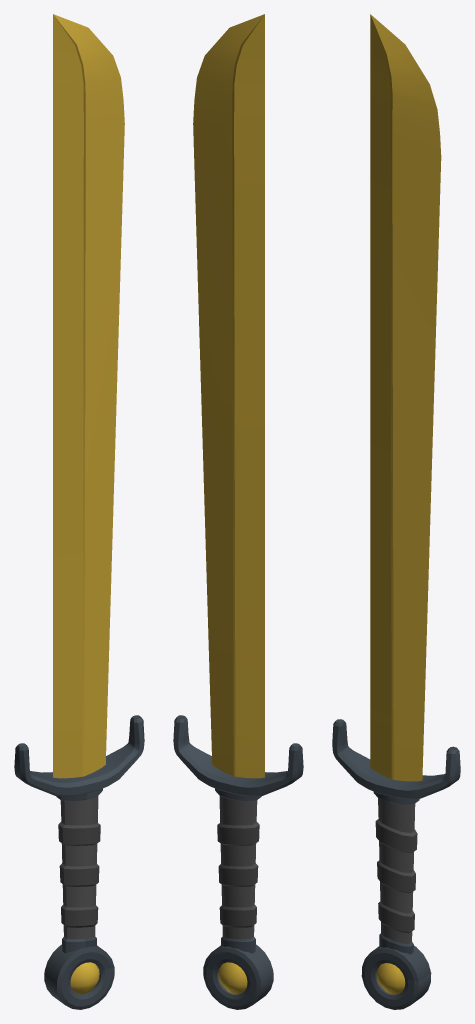
The model's file is SM_Sword09_Falchion_2Gold.fbx.
The picture shows the model from 3 angles, left to right: view 1: azimuth 30°, elevation 25°; view 2: azimuth 150°, elevation 25°; view 3: azimuth 330°, elevation 25°; orthographic projection.
Parts seen in each view (by area): view 1: Cube.041, Cylinder.035, Cube.346, Cylinder.473, Sphere.109; view 2: Cube.041, Cylinder.035, Cube.346, Cylinder.473, Sphere.109; view 3: Cube.041, Cylinder.035, Cube.346, Cylinder.473, Sphere.109.
Part boxes in pixels (<box>): Cube.041: <box>53,14,124,778</box>; Cylinder.035: <box>56,788,102,953</box>; Cube.346: <box>14,715,144,796</box>; Cylinder.473: <box>44,944,114,1009</box>; Sphere.109: <box>70,962,99,994</box>; Cube.041: <box>193,14,264,778</box>; Cylinder.035: <box>215,788,261,953</box>; Cube.346: <box>173,715,303,796</box>; Cylinder.473: <box>203,944,273,1009</box>; Sphere.109: <box>218,962,247,994</box>; Cube.041: <box>370,14,441,781</box>; Cylinder.035: <box>373,791,419,954</box>; Cube.346: <box>332,719,460,799</box>; Cylinder.473: <box>361,945,431,1009</box>; Sphere.109: <box>376,963,405,994</box>.
Bounding box in the file's own units: 0.1036 × 0.7919 × 0.0296.
